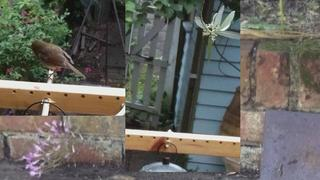robin: (28, 40, 85, 78)
